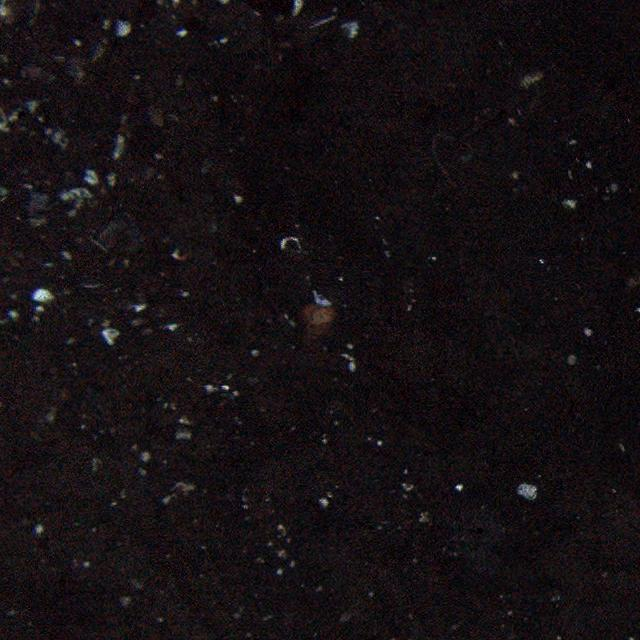whelk: (303, 302, 335, 347)
